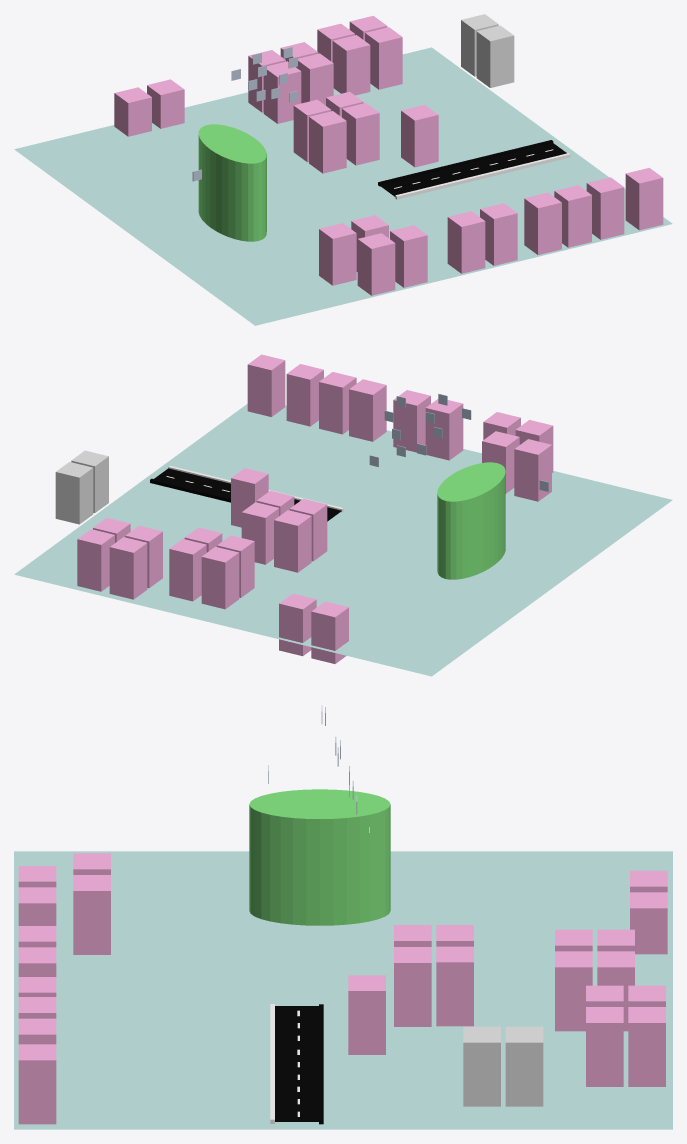
The picture shows the model from 3 angles, top to bottom: view 1: azimuth 30°, elevation 25°; view 2: azimuth 150°, elevation 25°; view 3: azimuth 270°, elevation 25°; orthographic projection. The views are drawn at different scales.
Parts seen in each view (by area): view 1: Plane, Cylinder, Cube.025, Cube.029, Cube.016, Cube.020, Cube.014, Cube.033, Cube.013, Cube.005, Cube.041, Cube.008 (+19 smaller); view 2: Plane, Cylinder, Cube.042, Cube.016, Cube.019, Cube.038, Cube.006, Cube.014, Cube.033, Cube.030, Cube.043, Cube.012 (+18 smaller); view 3: Plane, Cylinder, Cube.016, Cube.019, Cube.007, Cube.020, Cube.008, Cube.013, Cube.036, Cube.043, Cube.044, Cube.040 (+20 smaller).
Boxes of the visible parts, <box> form: Plane: <box>14,47,672,325</box>; Cylinder: <box>198,124,266,241</box>; Cube.025: <box>447,211,485,273</box>; Cube.029: <box>357,233,395,295</box>; Cube.016: <box>625,167,663,230</box>; Cube.020: <box>476,25,514,87</box>; Cube.014: <box>524,192,561,254</box>; Cube.033: <box>319,223,356,285</box>; Cube.013: <box>401,105,438,167</box>; Cube.005: <box>309,111,346,173</box>; Cube.041: <box>332,35,370,95</box>; Cube.008: <box>342,103,379,165</box>; Plane: <box>14,404,672,676</box>; Cylinder: <box>437,462,505,579</box>; Cube.042: <box>109,537,147,599</box>; Cube.016: <box>247,354,285,416</box>; Cube.019: <box>55,462,93,524</box>; Cube.038: <box>201,546,239,609</box>; Cube.006: <box>274,510,311,572</box>; Cube.014: <box>349,379,386,441</box>; Cube.033: <box>514,439,551,501</box>; Cube.030: <box>311,601,348,663</box>; Cube.043: <box>77,529,114,591</box>; Cube.012: <box>286,364,323,426</box>; Plane: <box>14,851,672,1129</box>; Cylinder: <box>249,789,390,925</box>; Cube.016: <box>18,1044,56,1124</box>; Cube.019: <box>505,1026,543,1106</box>; Cube.007: <box>436,946,473,1026</box>; Cube.020: <box>463,1026,500,1106</box>; Cube.008: <box>394,947,431,1026</box>; Cube.013: <box>348,975,385,1054</box>; Cube.036: <box>73,875,110,954</box>; Cube.043: <box>628,1007,665,1086</box>; Cube.044: <box>586,1007,623,1086</box>; Cube.040: <box>555,951,592,1031</box>.
Size of the model in its own units: 28383 by 11099 by 28000.
